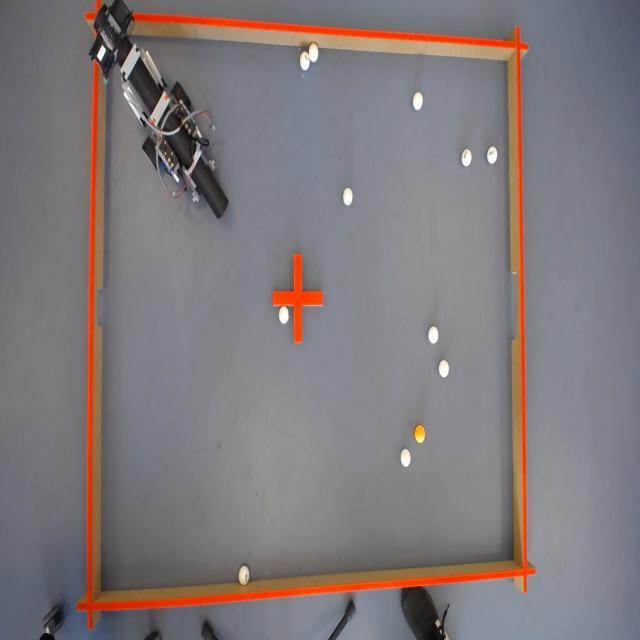orange: (413, 424, 425, 446)
robot: (90, 9, 226, 218)
white: (238, 565, 250, 590), (412, 90, 424, 112), (484, 146, 498, 164), (438, 360, 450, 380), (400, 447, 412, 467), (340, 186, 352, 206), (460, 148, 472, 168), (428, 324, 439, 344), (278, 304, 288, 324), (308, 42, 318, 61), (300, 51, 310, 70)
